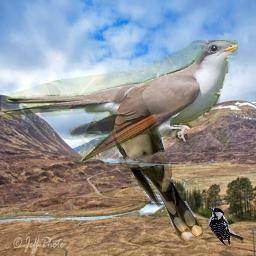Cuckoo: (1, 40, 238, 162), (109, 84, 203, 242)
Woodpecker: (207, 206, 244, 245)
